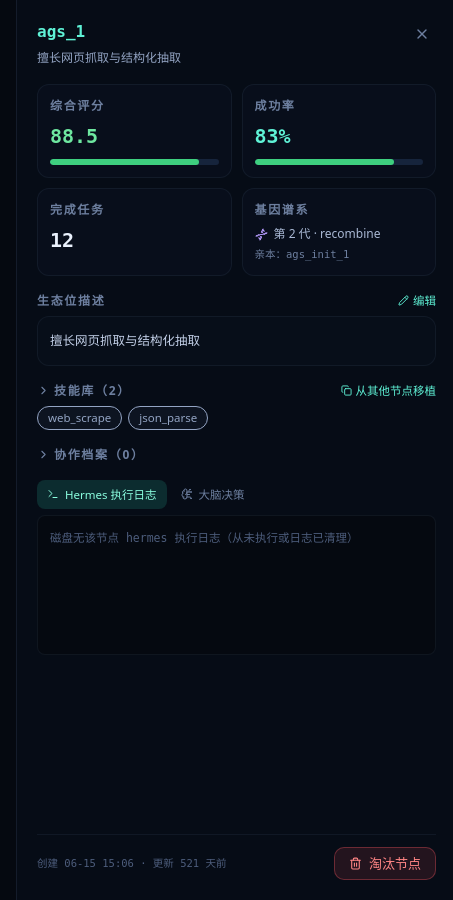
NodeDrawer 渲染回归 › 技能区默认折叠（芯片行），点标题可展开/收起完整列表
This screenshot has width=453, height=900.
Expected: the text "web_scrape" is shown, [37,406,122,430]
Expected: the text "网页抓取技能" is not shown
Click the button "技能库（2）". click: (84, 391)
box: [37,382,131,400]
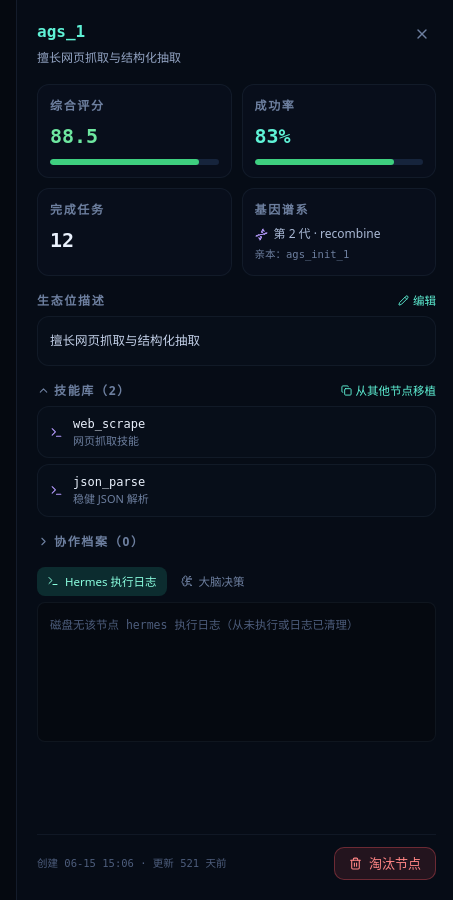
Now the text "网页抓取技能" is shown, box [73,433,139,448]
Now the text "稳健 JSON 解析" is shown, box [73,491,149,506]
Click the button "技能库（2）". click: (84, 391)
box: [37,382,131,400]
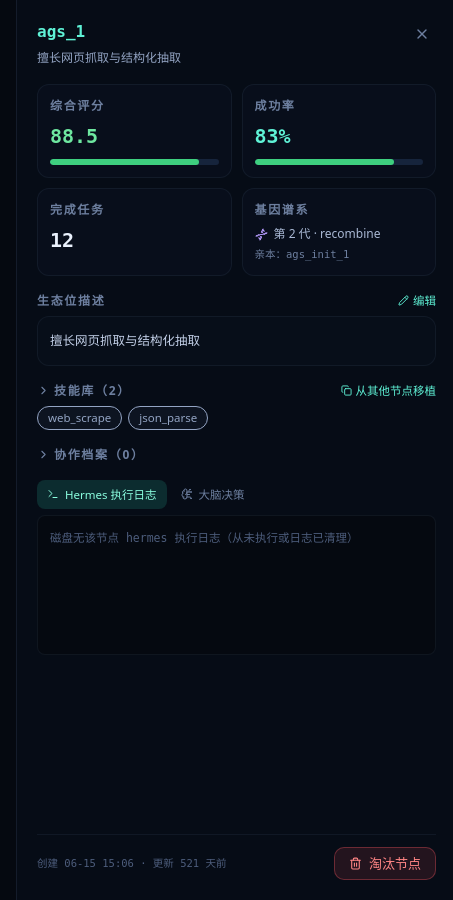
Now the text "网页抓取技能" is gone
